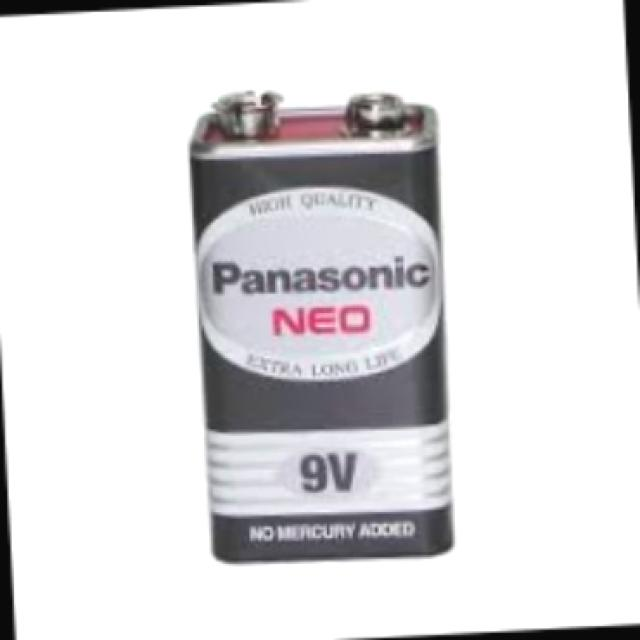elektronik: (180, 90, 454, 589)
